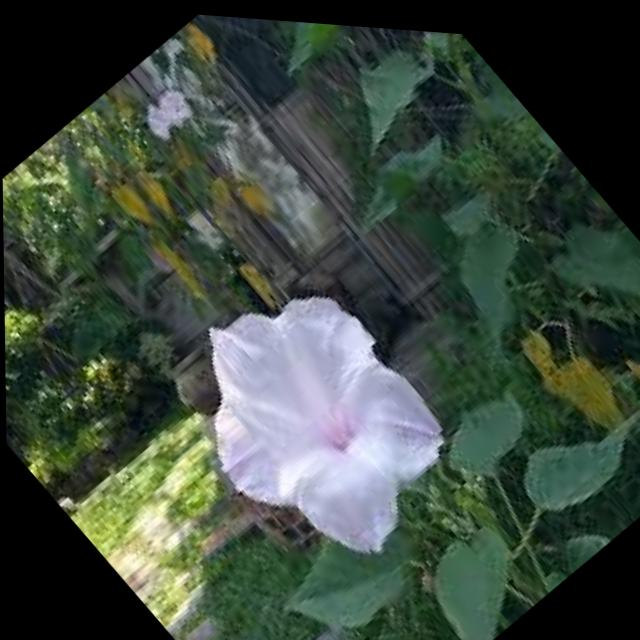Flower: (147, 232, 488, 591)
